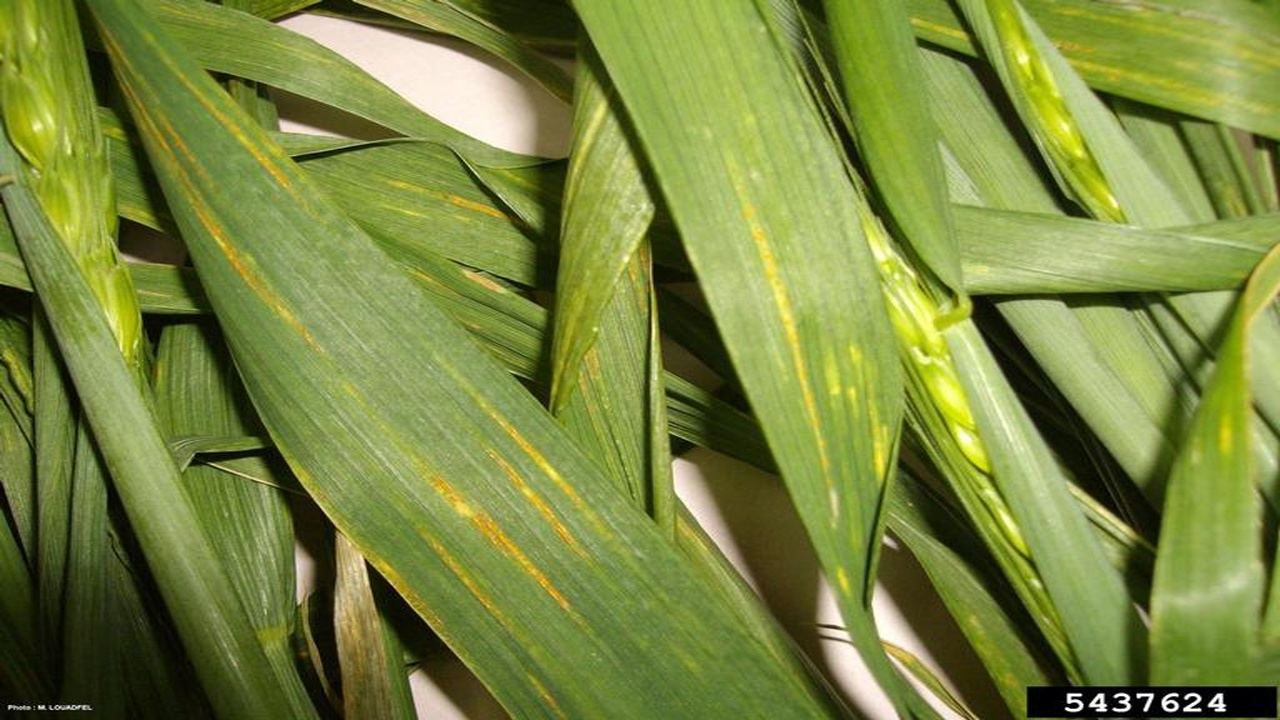stripe_rust: (79, 1, 825, 713), (571, 3, 917, 720)
